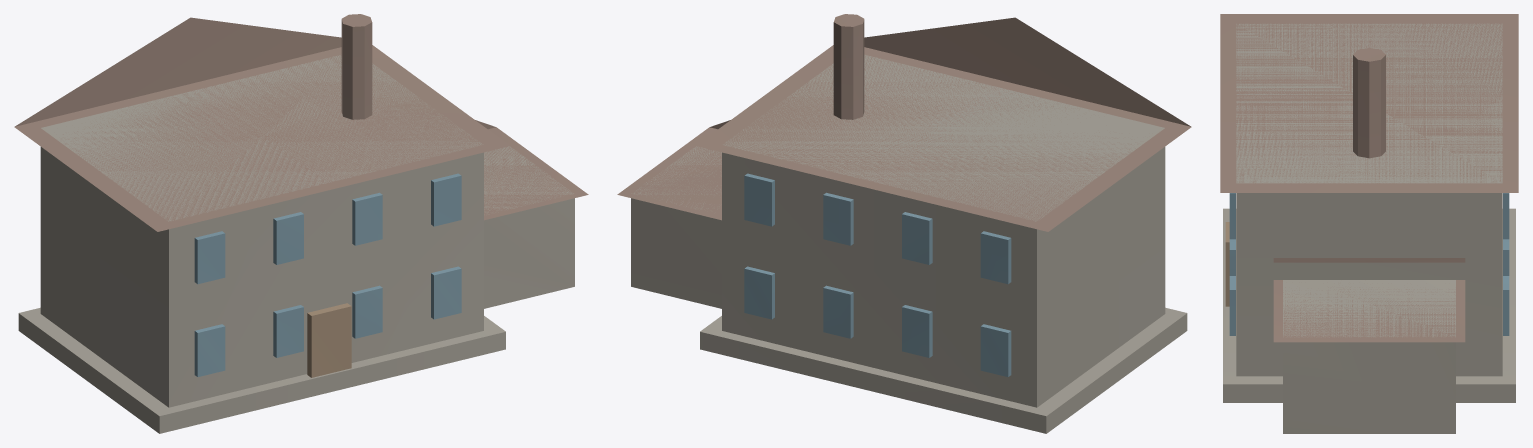
The model's file is chalet-07.glb.
The picture shows the model from 3 angles, left to right: view 1: azimuth 30°, elevation 25°; view 2: azimuth 150°, elevation 25°; view 3: azimuth 270°, elevation 25°; orthographic projection. The views are drawn at different scales.
Parts seen in each view (by area): view 1: world; view 2: world; view 3: world.
Boxes of the visible parts, x1,y1,x2,y2 form: world: (14, 14, 588, 433); world: (617, 14, 1191, 433); world: (1220, 14, 1518, 433).
Size of the model in its own units: 2.16 by 1.34 by 1.18.
